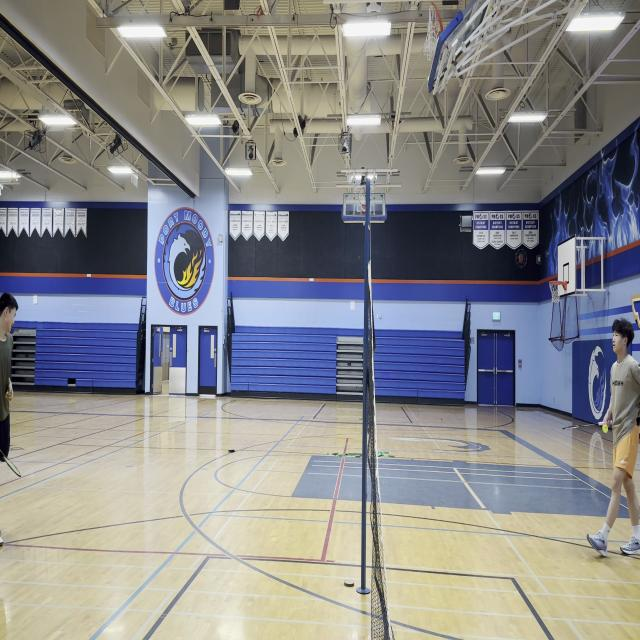shuttlecock: (602, 424, 608, 434)
